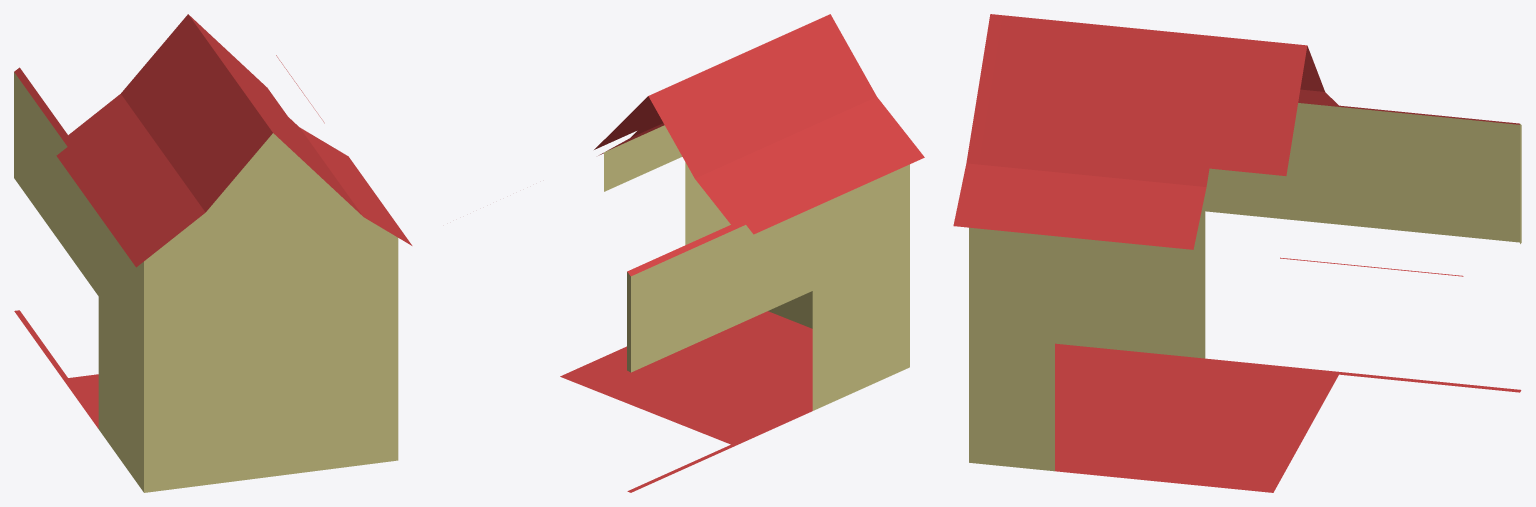
The picture shows the model from 3 angles, left to right: view 1: azimuth 30°, elevation 25°; view 2: azimuth 150°, elevation 25°; view 3: azimuth 270°, elevation 25°; orthographic projection. The views are drawn at different scales.
Size of the model in its own units: 16.49 by 21.72 by 16.3.
